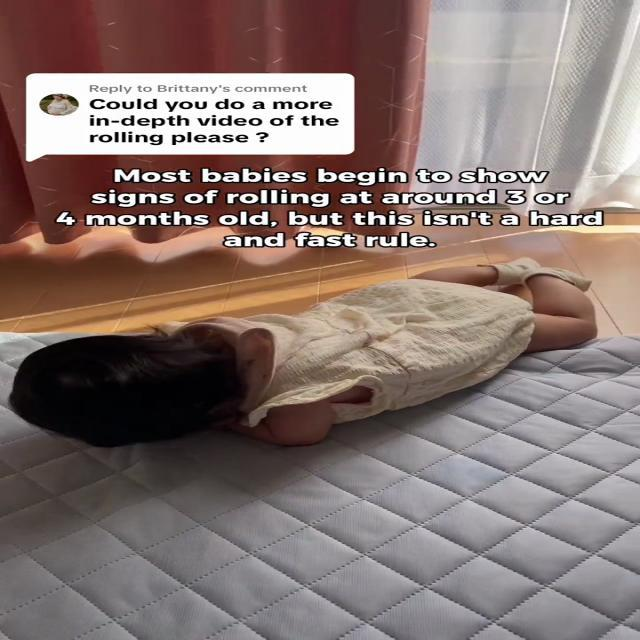baby: (0, 257, 619, 467)
